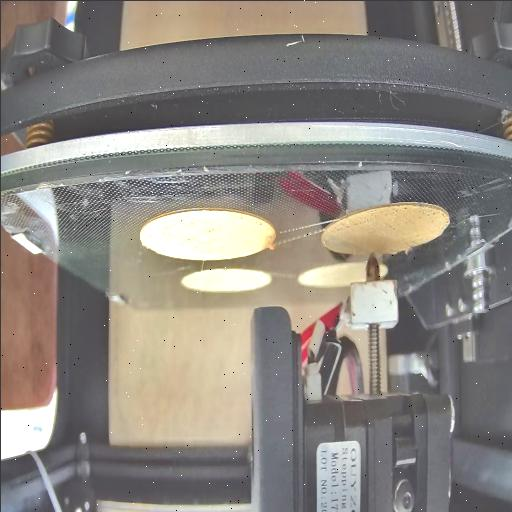under_extrusion: (160, 213, 262, 239), (336, 206, 406, 231), (416, 208, 448, 230)
